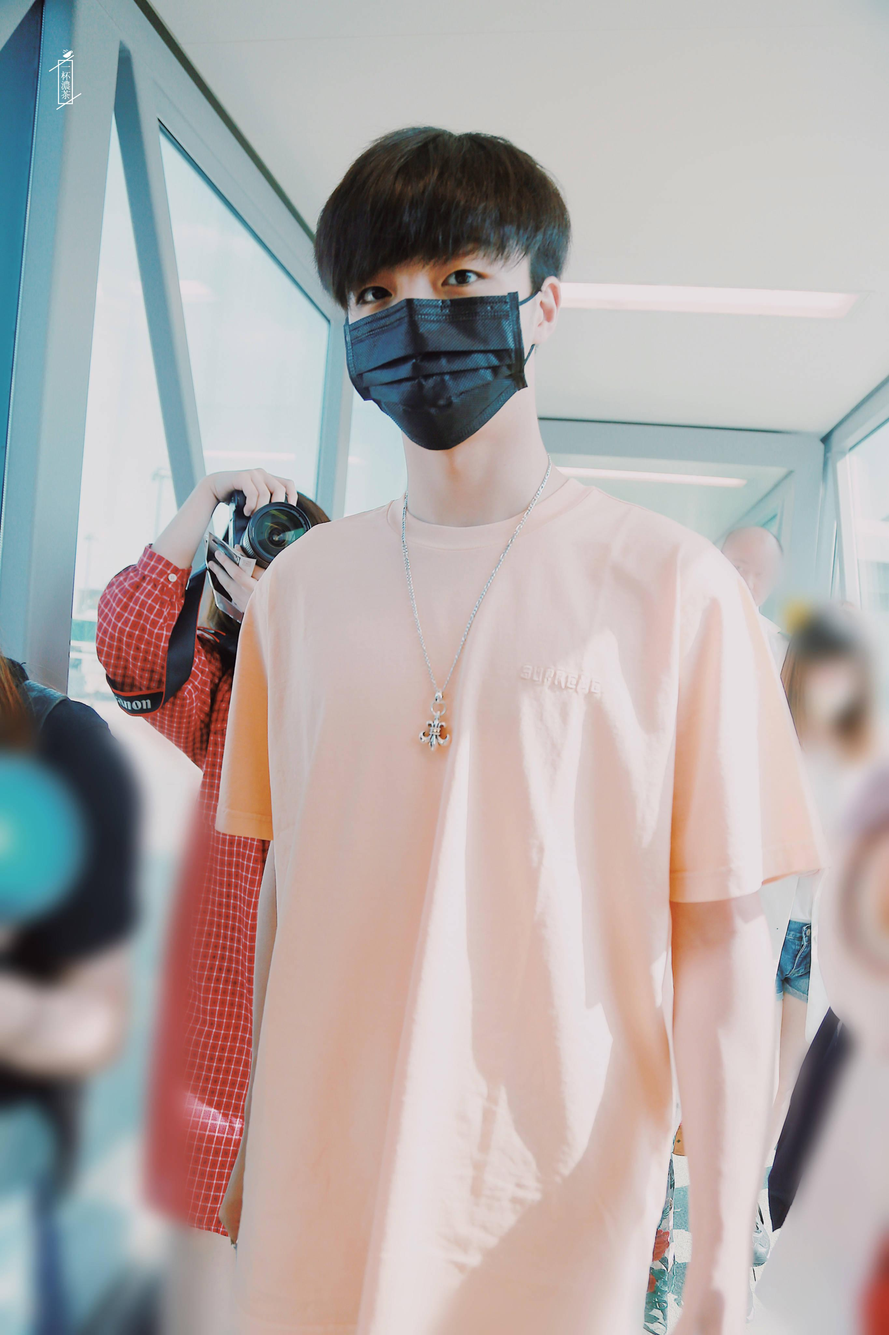OK: (343, 229, 526, 452)
